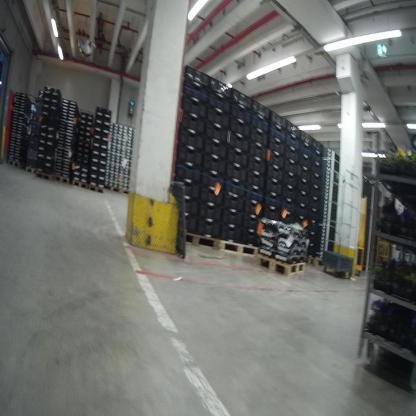pallet: (178, 225, 222, 255), (257, 252, 308, 273), (220, 235, 261, 259), (87, 182, 122, 194), (313, 252, 329, 269), (7, 157, 27, 170), (35, 170, 55, 181), (70, 177, 89, 188), (54, 173, 71, 184), (304, 252, 317, 266), (24, 165, 38, 174), (122, 188, 131, 197)
